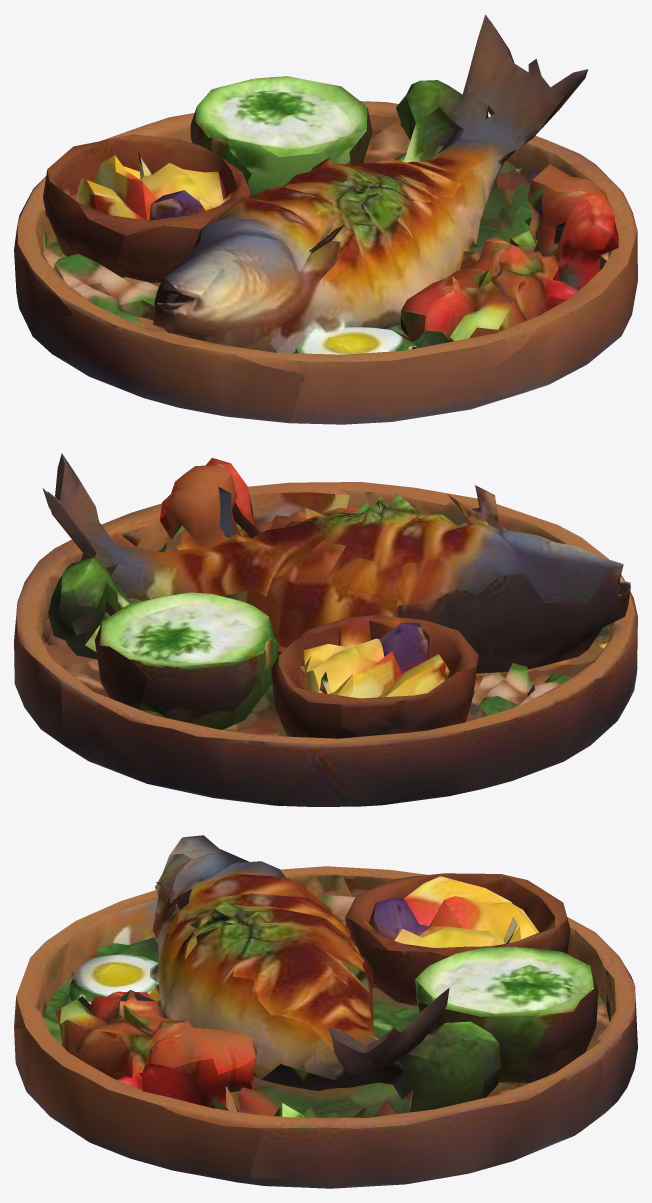
The model's file is colony_feast.glb.
3 renders of one model, top to bottom at view 1: azimuth 30°, elevation 25°; view 2: azimuth 150°, elevation 25°; view 3: azimuth 270°, elevation 25°, orthographic.
Parts seen in each view (by area): view 1: colony_feast; view 2: colony_feast; view 3: colony_feast.
Part boxes in pixels (left/top/right/bottom): colony_feast: left=14, top=14, right=637, bottom=424; colony_feast: left=14, top=453, right=637, bottom=806; colony_feast: left=14, top=835, right=637, bottom=1188.
Bounding box in the file's own units: 0.9996 × 0.3152 × 1.
1 material, 1 textured.
